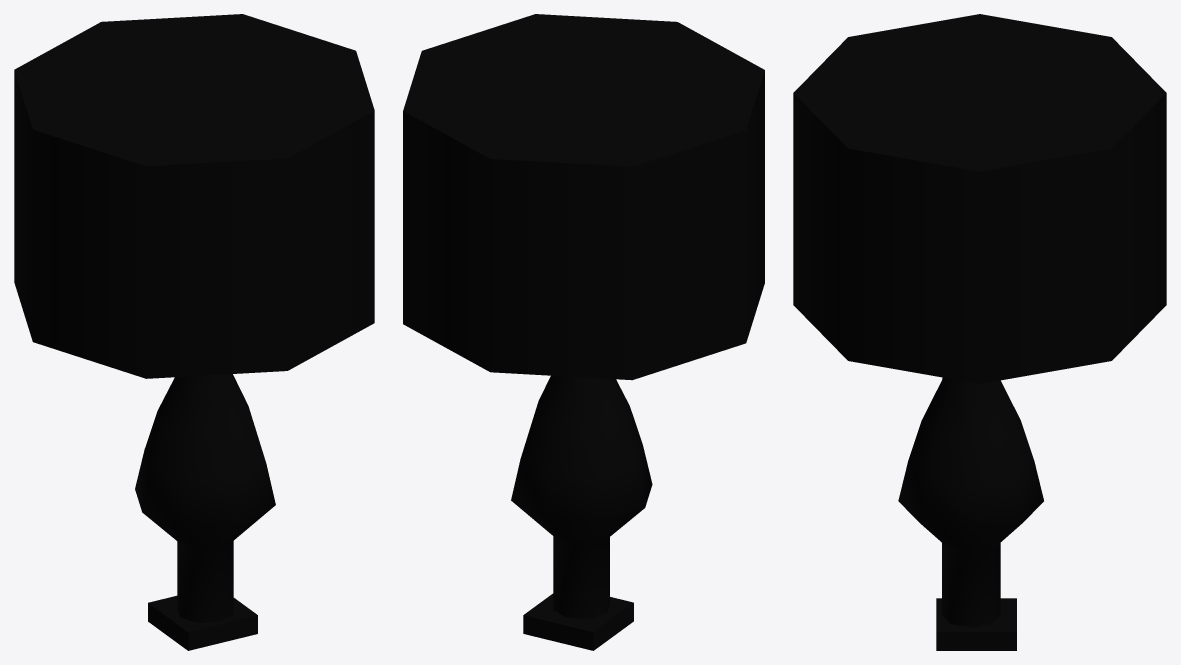
Rendered from TableLamp.fbx.
3 views of the same model, side by side, from view 1: azimuth 30°, elevation 25°; view 2: azimuth 150°, elevation 25°; view 3: azimuth 270°, elevation 25° (orthographic).
Visible parts, largest first — view 1: node_id6, node_id9; view 2: node_id6, node_id9; view 3: node_id6, node_id9.
Part boxes in pixels (x1=…): node_id6: x1=14, y1=71, x2=374, y2=650; node_id9: x1=14, y1=14, x2=374, y2=166; node_id6: x1=403, y1=70, x2=764, y2=650; node_id9: x1=403, y1=14, x2=764, y2=166; node_id6: x1=793, y1=93, x2=1166, y2=650; node_id9: x1=793, y1=14, x2=1166, y2=171.
Bounding box in the file's own units: 0.3219 × 0.512 × 0.3219.
Materials: 2 (2 with a texture image).
